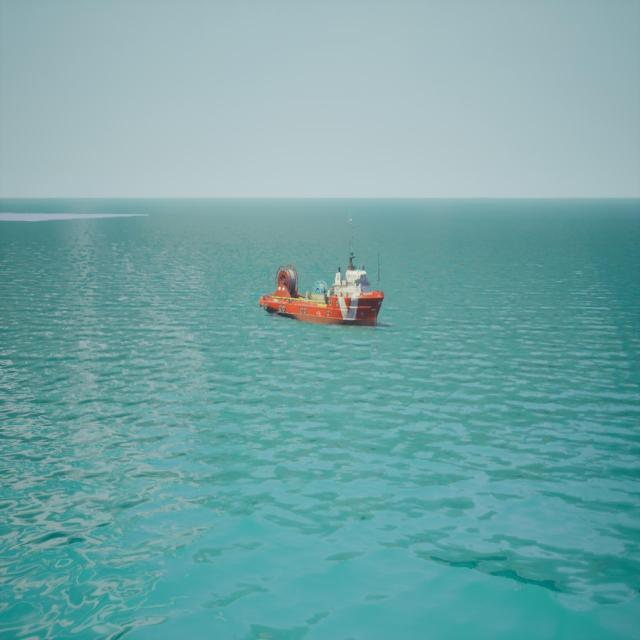tug boat: (261, 213, 386, 330)
